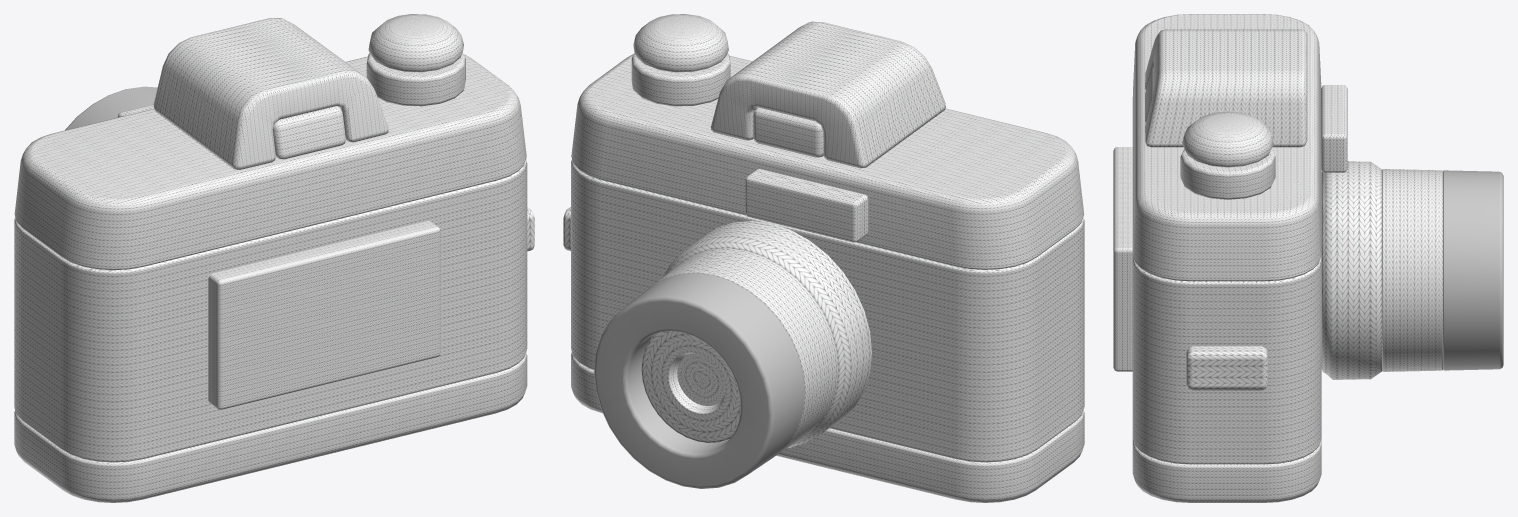
Rendered from A_Camera.fbx.
The picture shows the model from 3 angles, left to right: view 1: azimuth 30°, elevation 25°; view 2: azimuth 150°, elevation 25°; view 3: azimuth 270°, elevation 25°; orthographic projection. The views are drawn at different scales.
Visible parts, largest first — view 1: A_Camera; view 2: A_Camera; view 3: A_Camera, Item_Camera_14.
Part boxes in pixels (box(x1,y1,x2,y2)): A_Camera: box(14, 14, 527, 502); A_Camera: box(571, 14, 1084, 502); A_Camera: box(1113, 14, 1503, 502); Item_Camera_14: box(1186, 346, 1268, 390).
Bounding box in the file's own units: 2.98 × 2.21 × 2.23.
